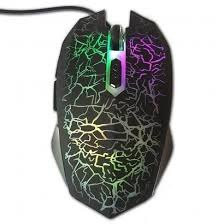mouse: (38, 5, 187, 223)
